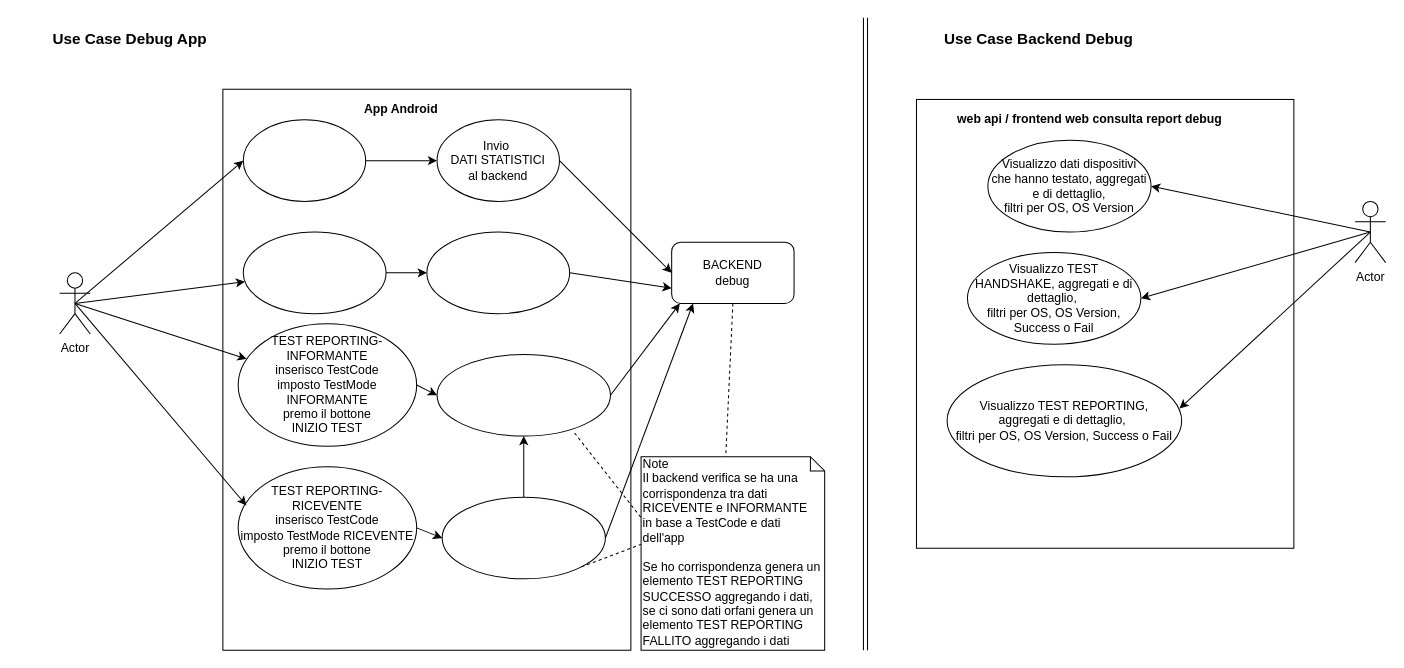
Image size: 1404x668. Some labels were removed from this diagram. Each missing label, with the box of its shape:
Invio DATI STATISTICI e TEST HANDSHAKE al backend: (426, 231, 570, 314)
Invio DATI STATISTICI e TEST REPORTING (TestMode: INFORMANTE) al backend: (436, 353, 610, 436)
Invio DATI STATISTICI e TEST REPORTING (TestMode: RICEVENTE) al backend: (441, 496, 605, 579)
Preme sul bottone DEBUG: (242, 119, 366, 201)
TEST HANDSHAKE inserisco TestCode premo il bottone INIZIO TEST: (242, 231, 386, 314)
